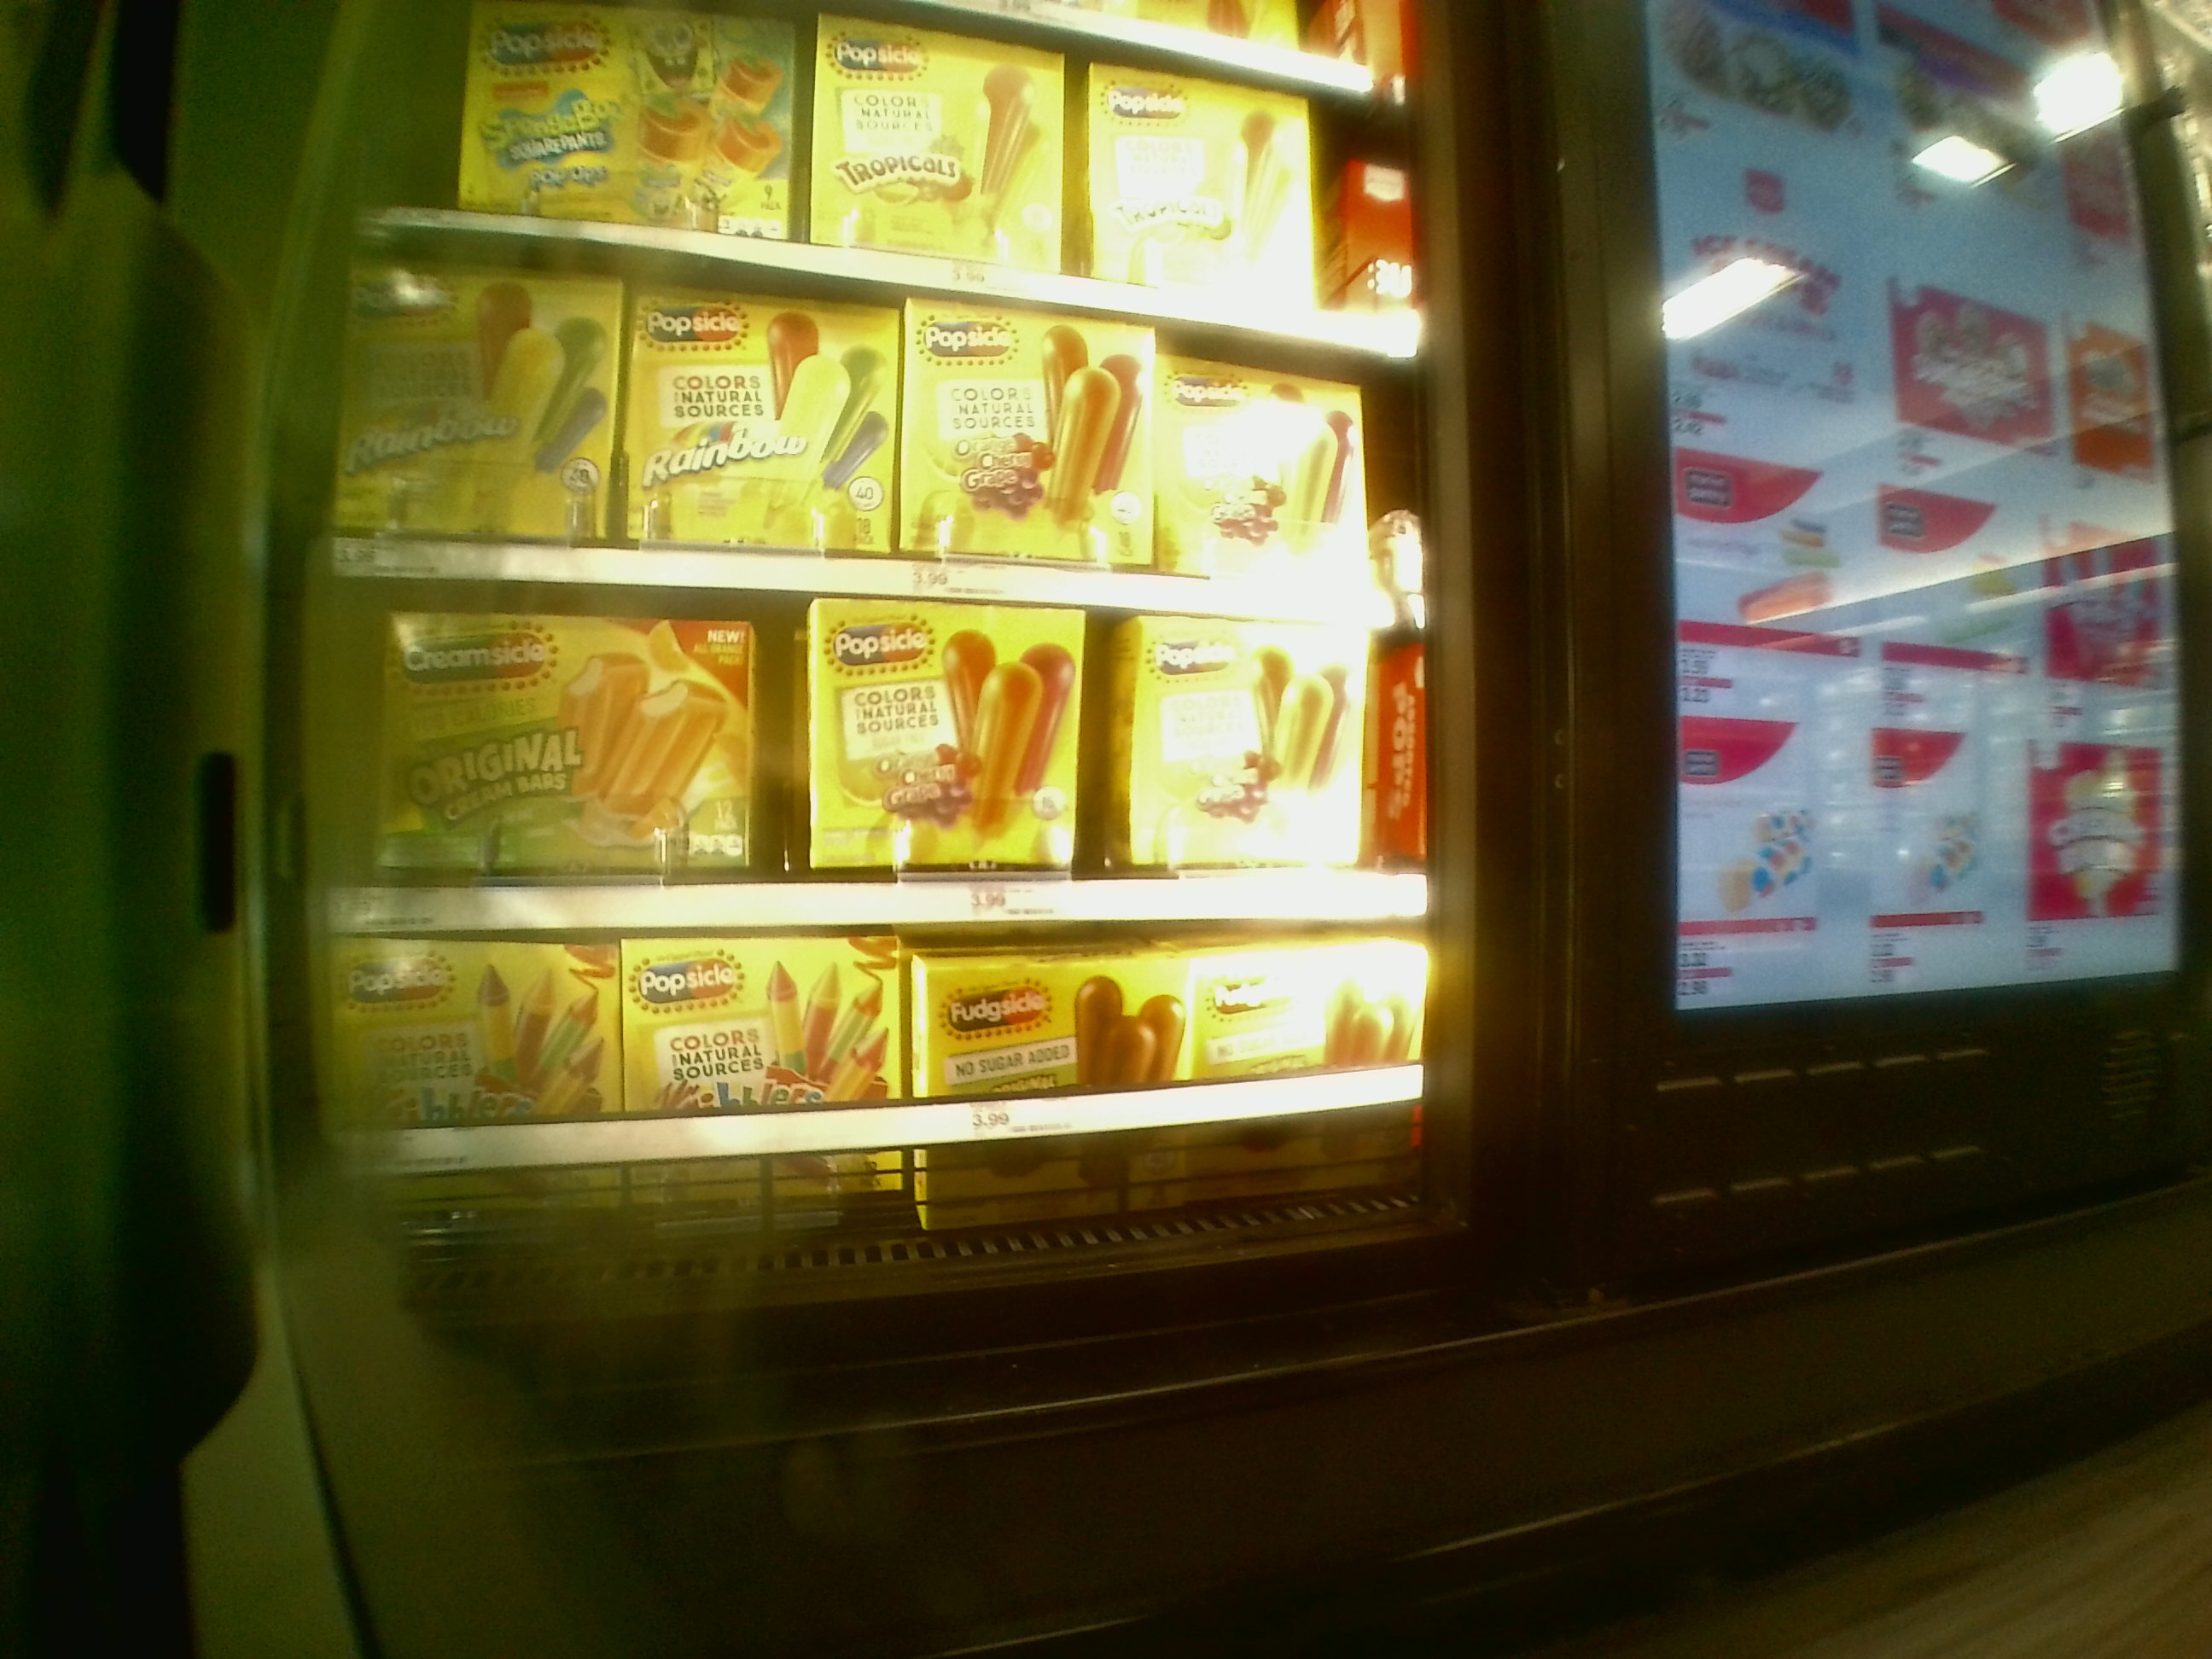frozen-food-shelf: (327, 563, 1426, 927), (334, 925, 1426, 1173)
